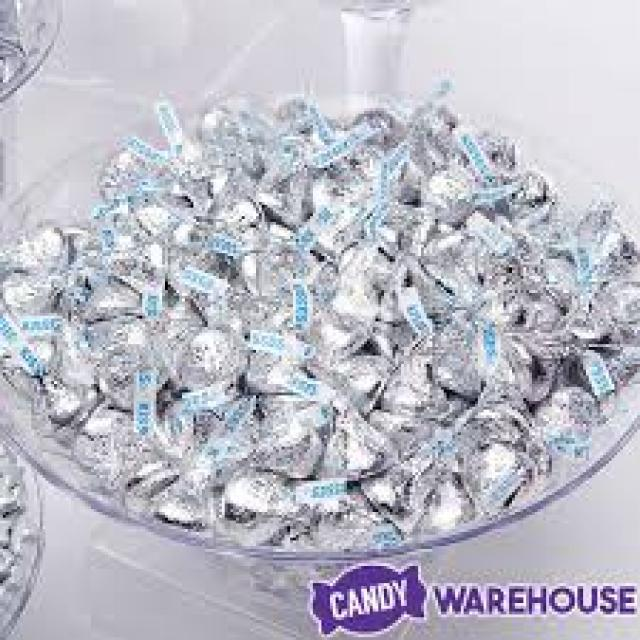kisses: (216, 458, 308, 549), (79, 266, 177, 344), (318, 411, 400, 502), (168, 321, 254, 400), (254, 154, 327, 246), (0, 217, 73, 307), (88, 330, 170, 407), (293, 283, 364, 365), (509, 323, 572, 411), (380, 342, 448, 423), (29, 356, 90, 444), (424, 161, 484, 250), (460, 446, 531, 520), (99, 155, 180, 218)
